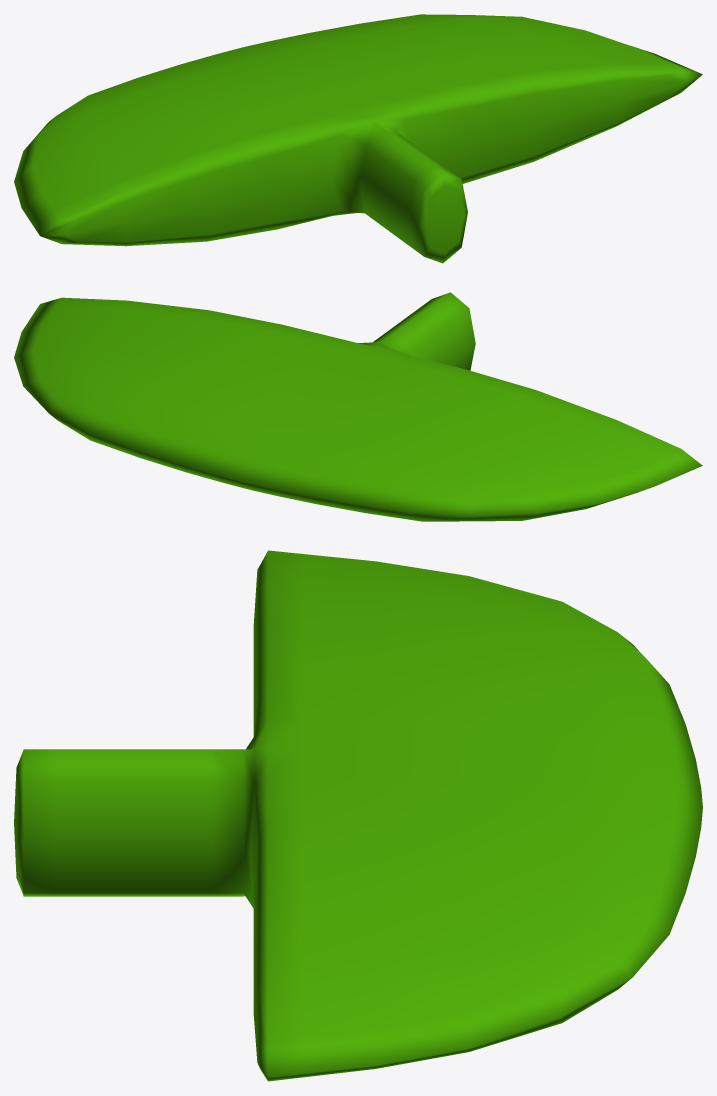
Rendered from Toaster_Button.fbx.
3 renders of one model, top to bottom at view 1: azimuth 30°, elevation 25°; view 2: azimuth 150°, elevation 25°; view 3: azimuth 270°, elevation 25°, orthographic. The views are drawn at different scales.
Parts seen in each view (by area): view 1: Toaster_Button; view 2: Toaster_Button; view 3: Toaster_Button.
Boxes of the visible parts, box(x1,y1,x2,y2) form: Toaster_Button: box(14, 14, 702, 263); Toaster_Button: box(14, 292, 702, 521); Toaster_Button: box(14, 550, 702, 1081).
Bounding box in the file's own units: 41 × 5.36 × 22.74.
